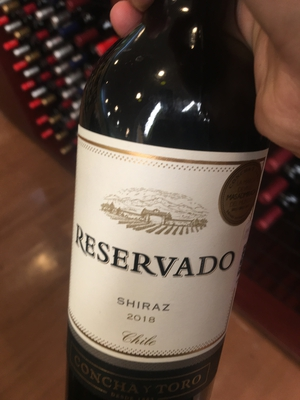reservado shiraz: (61, 7, 266, 400)
